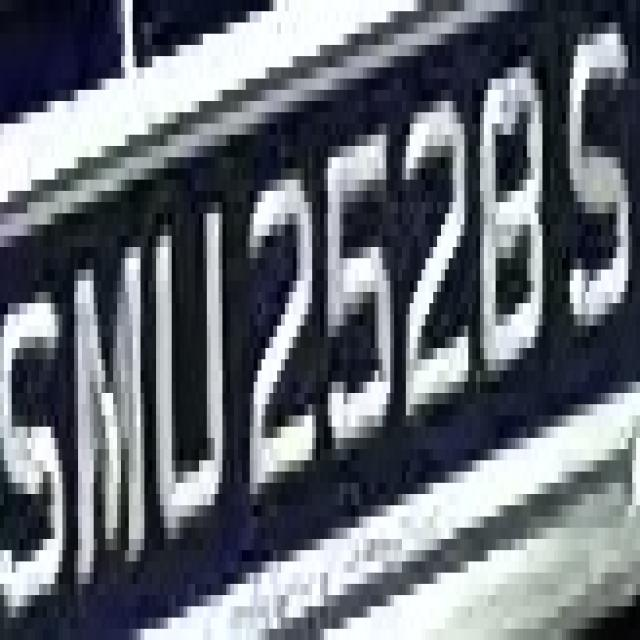2: (390, 90, 480, 449), (234, 146, 324, 494)
5: (324, 90, 414, 460)
8: (468, 45, 550, 370)
M: (70, 258, 152, 562)
S: (550, 0, 640, 359), (0, 247, 70, 629)
U: (144, 214, 238, 562)
